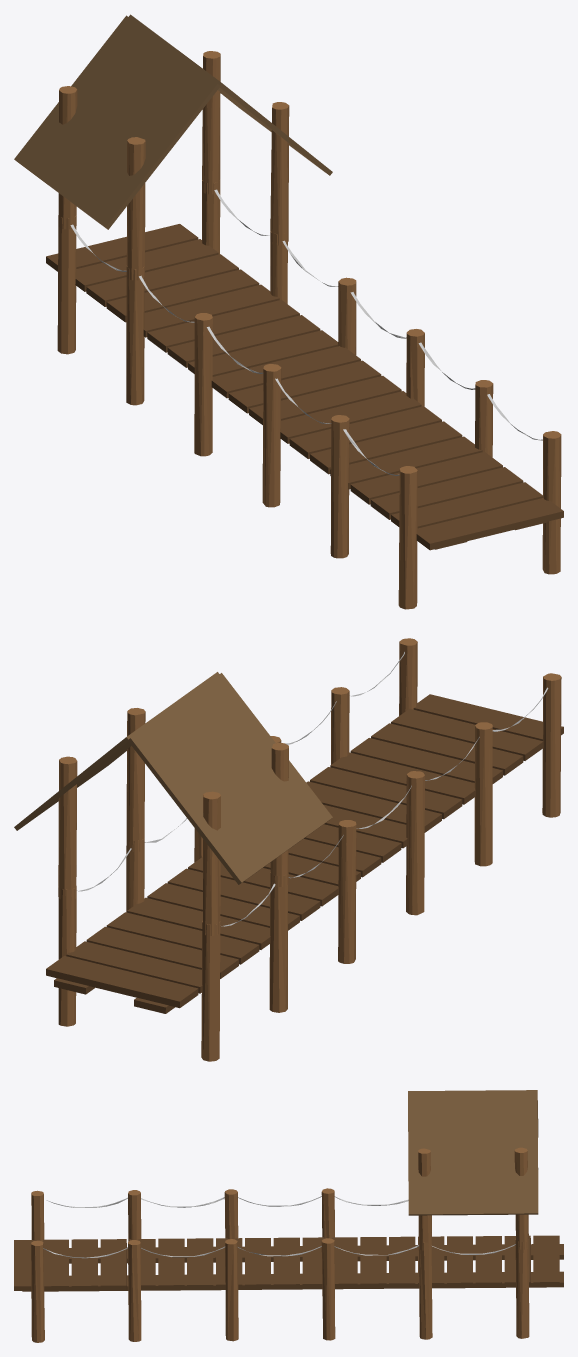
Rendered from pier.lod1.glb.
The picture shows the model from 3 angles, top to bottom: view 1: azimuth 30°, elevation 25°; view 2: azimuth 150°, elevation 25°; view 3: azimuth 270°, elevation 25°; orthographic projection. The views are drawn at different scales.
Parts seen in each view (by area): view 1: Cube.001_Baked_Cube.001_Baked_0; view 2: Cube.001_Baked_Cube.001_Baked_0; view 3: Cube.001_Baked_Cube.001_Baked_0.
Boxes of the visible parts, x1,y1,x2,y2 form: Cube.001_Baked_Cube.001_Baked_0: (14, 14, 563, 609); Cube.001_Baked_Cube.001_Baked_0: (14, 638, 563, 1061); Cube.001_Baked_Cube.001_Baked_0: (14, 1090, 563, 1342).
Bounding box in the file's own units: 8.15 × 10.81 × 24.
